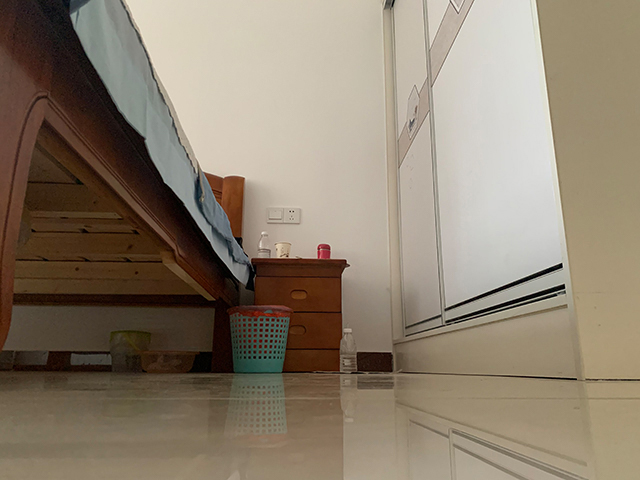bed: (1, 1, 253, 373)
cabinet: (381, 1, 640, 382), (249, 257, 348, 372)
trashcan: (227, 303, 292, 375)
